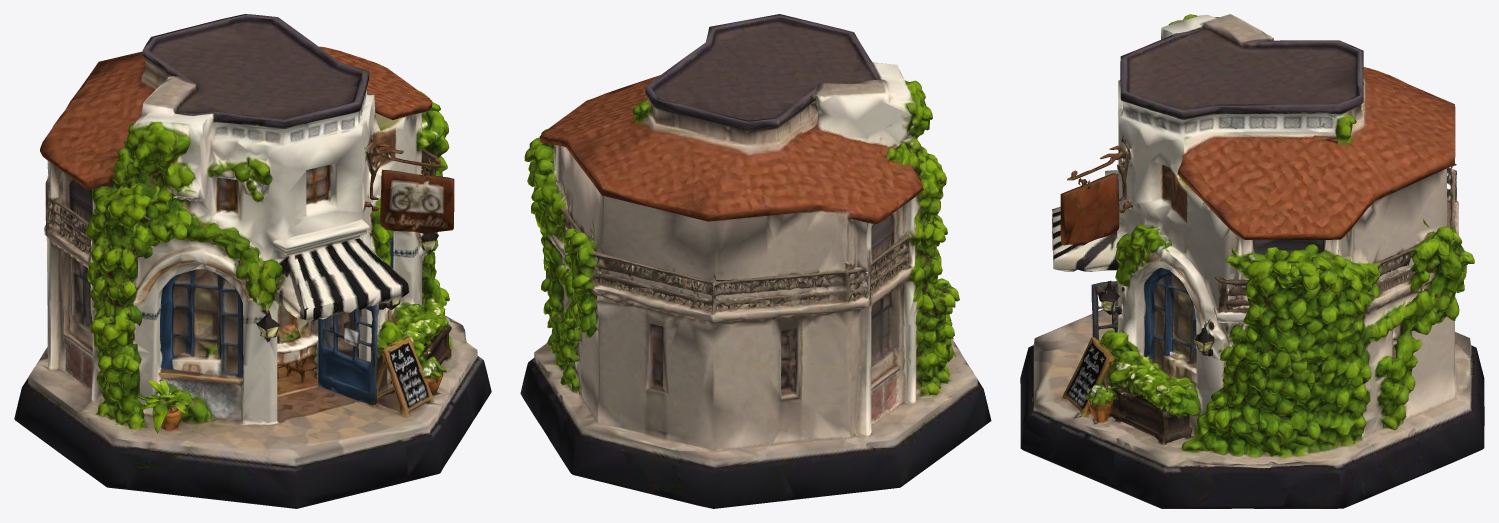
File: labicyclette.glb
3 views of the same model, side by side, from view 1: azimuth 30°, elevation 25°; view 2: azimuth 150°, elevation 25°; view 3: azimuth 270°, elevation 25° (orthographic).
Size of the model in its own units: 1.85 by 1.52 by 1.86.
Materials: 1 (1 with a texture image).
